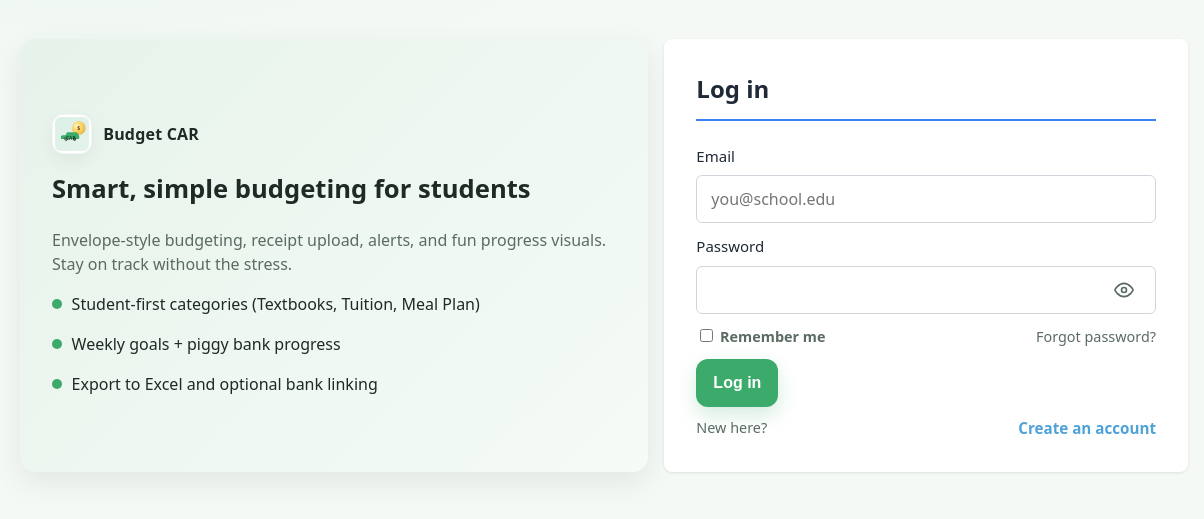
Test case: Authentication › Login Page › should show error for invalid credentials
Type "nonexistent@example.com" into the field named "email" at (926,199), box [696, 175, 1156, 223]
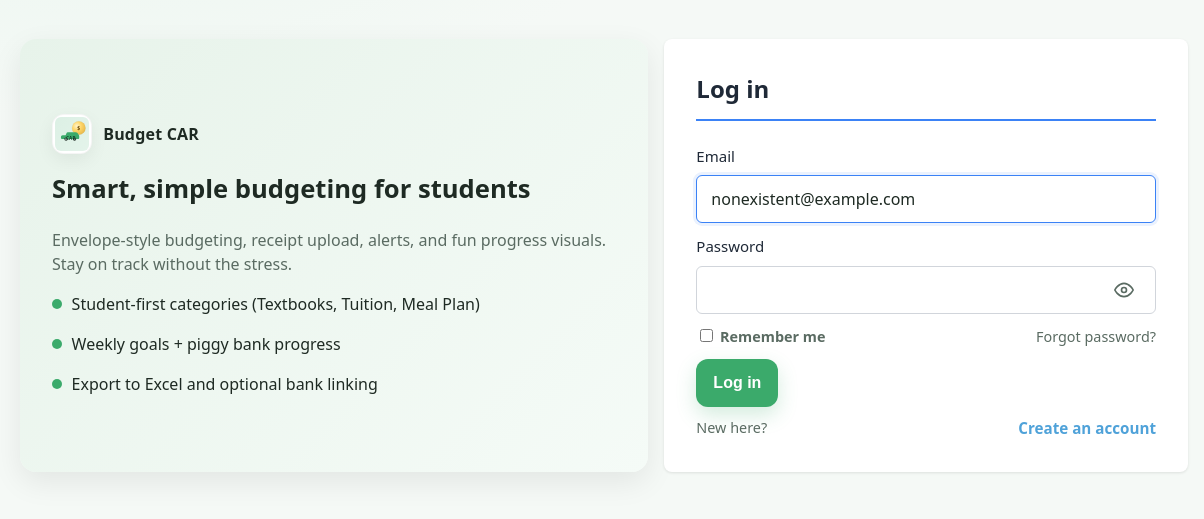
Type "wrongpassword123" into the password field named "password" at (926,290), box [696, 266, 1156, 314]
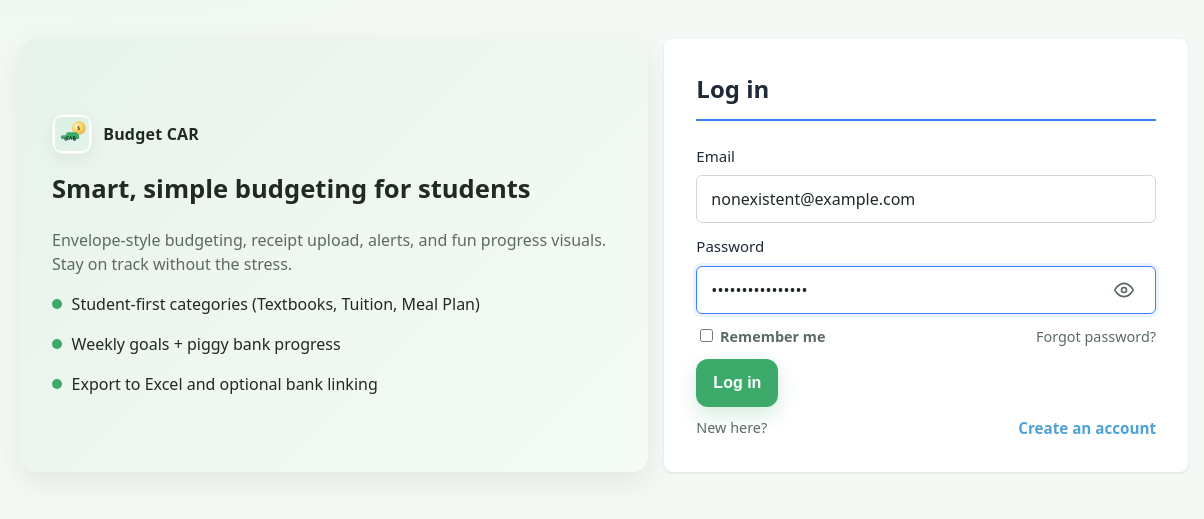
Click the submit button at (737,383), box [696, 359, 778, 407]
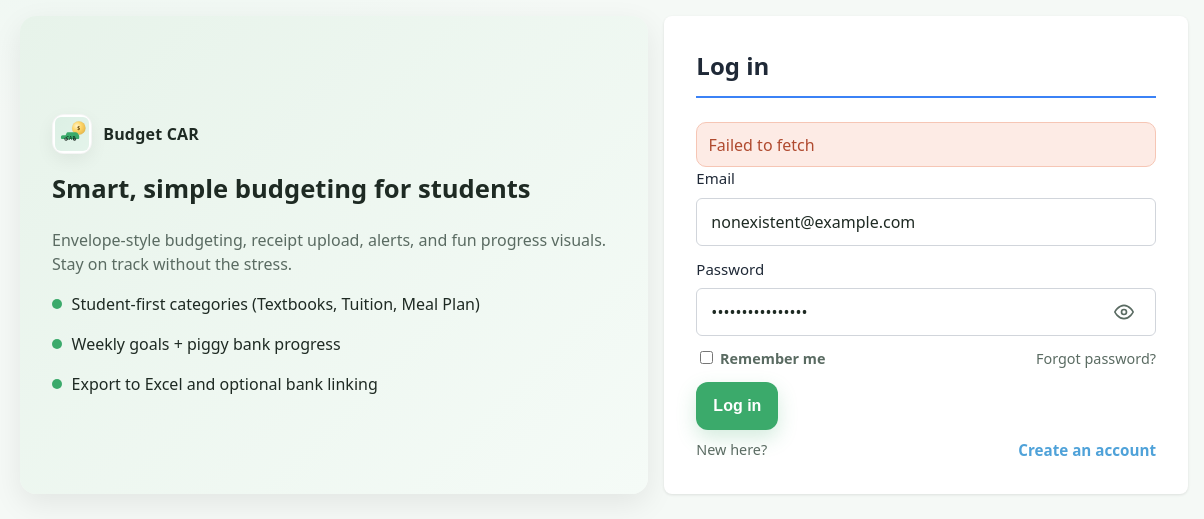
Check: the message "Failed to fetch" is shown, box [696, 122, 1156, 167]
